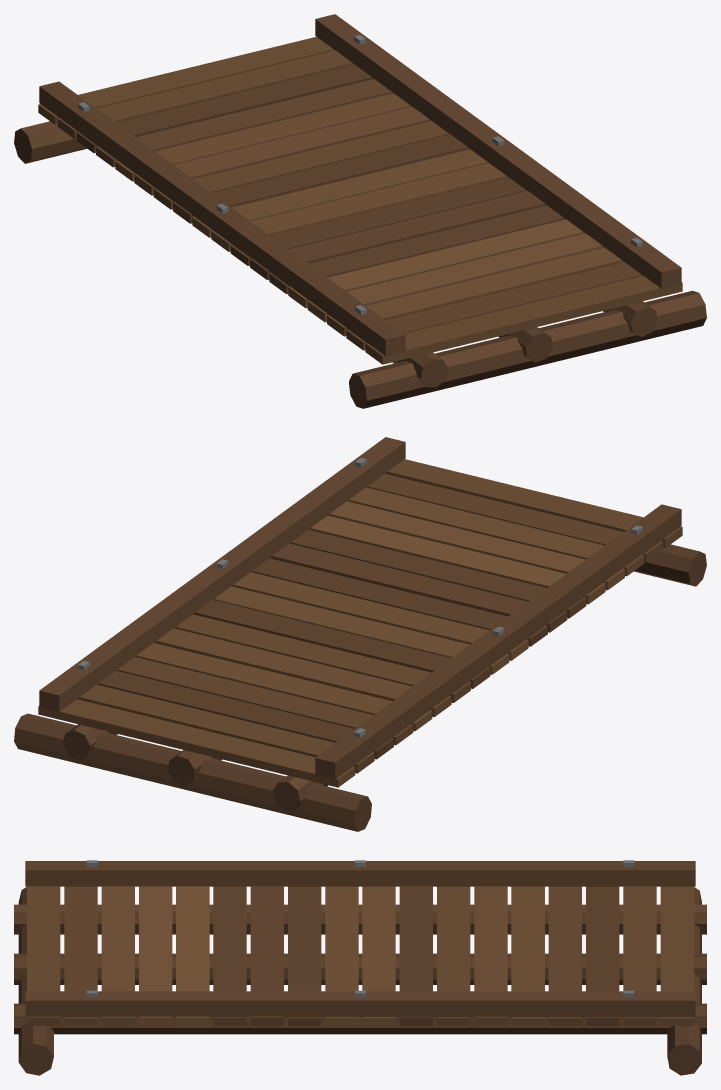
File: bridge_plank.glb
3 views of the same model, one above another, from view 1: azimuth 30°, elevation 25°; view 2: azimuth 150°, elevation 25°; view 3: azimuth 270°, elevation 25° (orthographic). The views are drawn at different scales.
Parts seen in each view (by area): view 1: bridge_plank; view 2: bridge_plank; view 3: bridge_plank.
Boxes of the visible parts, x1=… form: bridge_plank: x1=14, y1=14, x2=706, y2=408; bridge_plank: x1=14, y1=437, x2=706, y2=831; bridge_plank: x1=14, y1=860, x2=706, y2=1075.
Bounding box in the file's own units: 3.4 × 0.6773 × 6.2.
